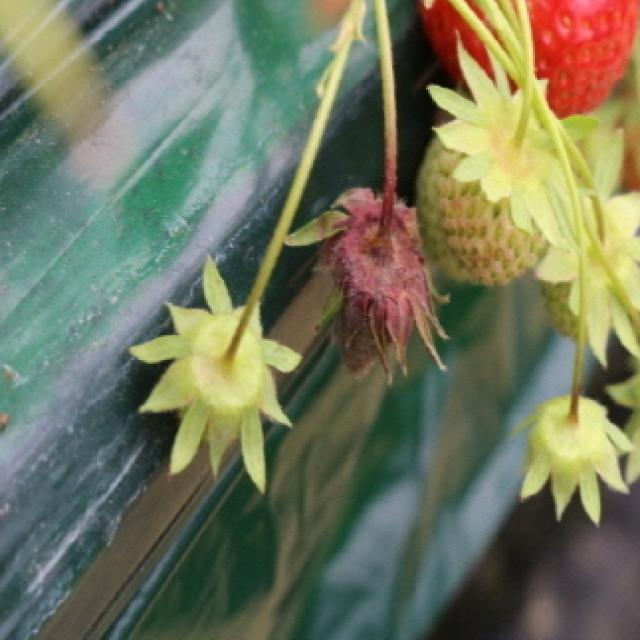Gray Mold: (315, 162, 455, 387)
